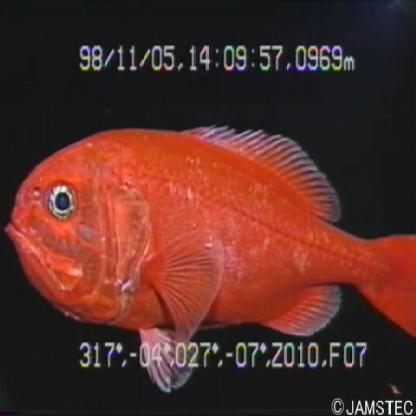Bio: (4, 118, 416, 395)
